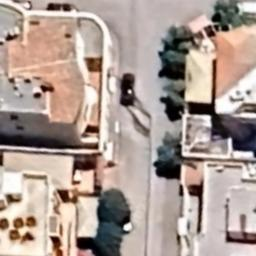sedan: (119, 71, 136, 108), (46, 1, 78, 14)
